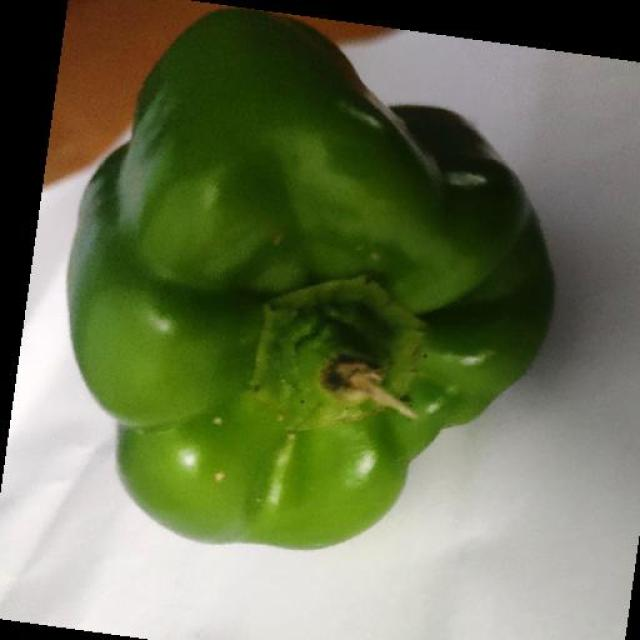Fresh_Capsicum: (102, 36, 517, 522)
